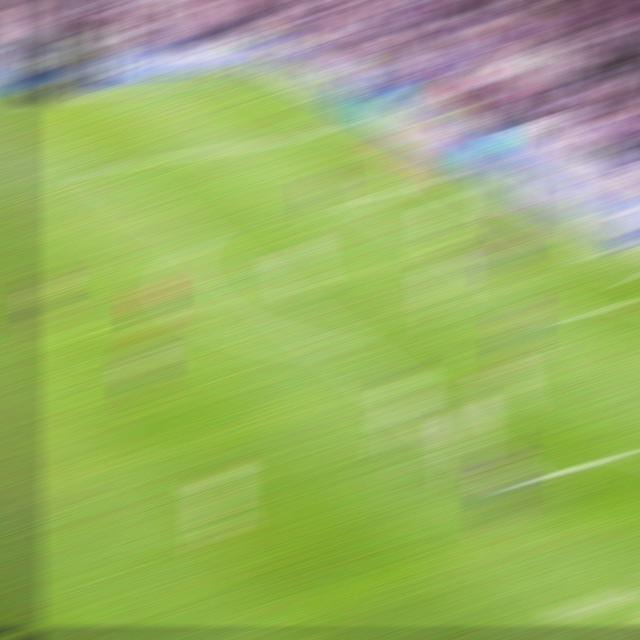bigarea_bottom_inner: (503, 471, 537, 493)
bigarea_top_inner: (84, 158, 116, 176)
bigarea_top_outter: (330, 120, 361, 132)
bottom_arc_area_intersection: (323, 335, 358, 359)
smallarea_top_inner: (350, 188, 381, 203)
top_arc_area_intersection: (183, 232, 214, 249)
